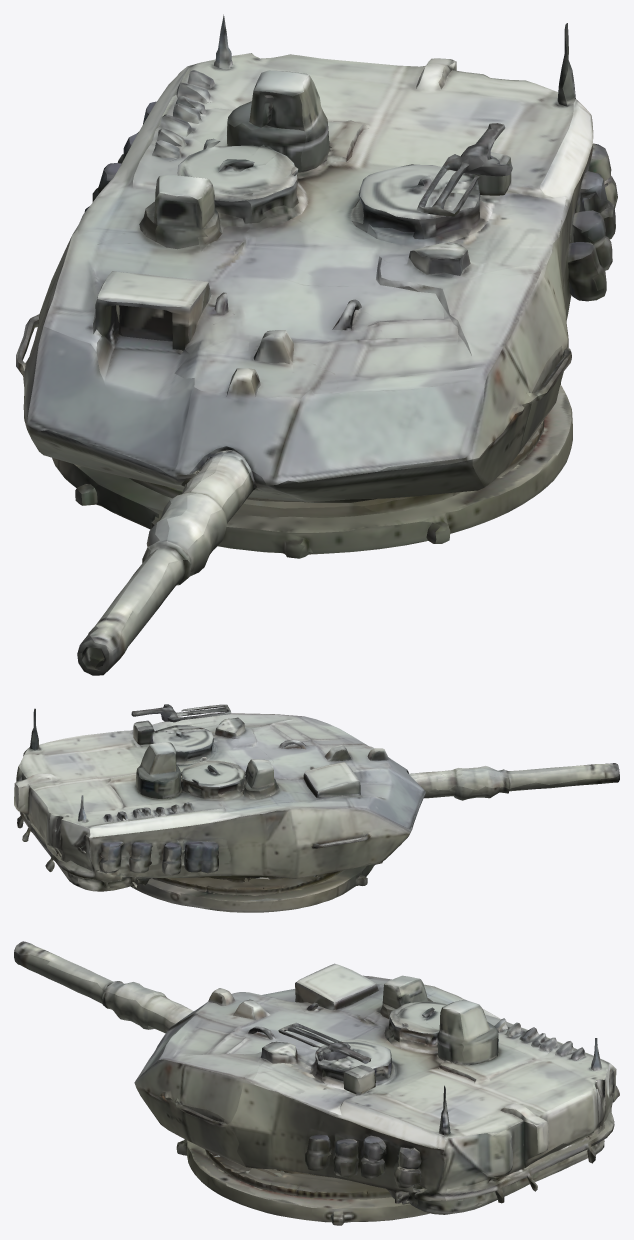
The model's file is main_turret_only.glb.
3 views of the same model, one above another, from view 1: azimuth 30°, elevation 25°; view 2: azimuth 150°, elevation 25°; view 3: azimuth 270°, elevation 25° (orthographic). The views are drawn at different scales.
Parts seen in each view (by area): view 1: geometry_0; view 2: geometry_0; view 3: geometry_0.
Part boxes in pixels (x1,y1,x2,y2): geometry_0: [16, 14, 617, 675]; geometry_0: [14, 704, 619, 912]; geometry_0: [14, 941, 619, 1225].
Size of the model in its own units: 4.5 by 1.4 by 4.53.
Materials: 1 (1 with a texture image).
